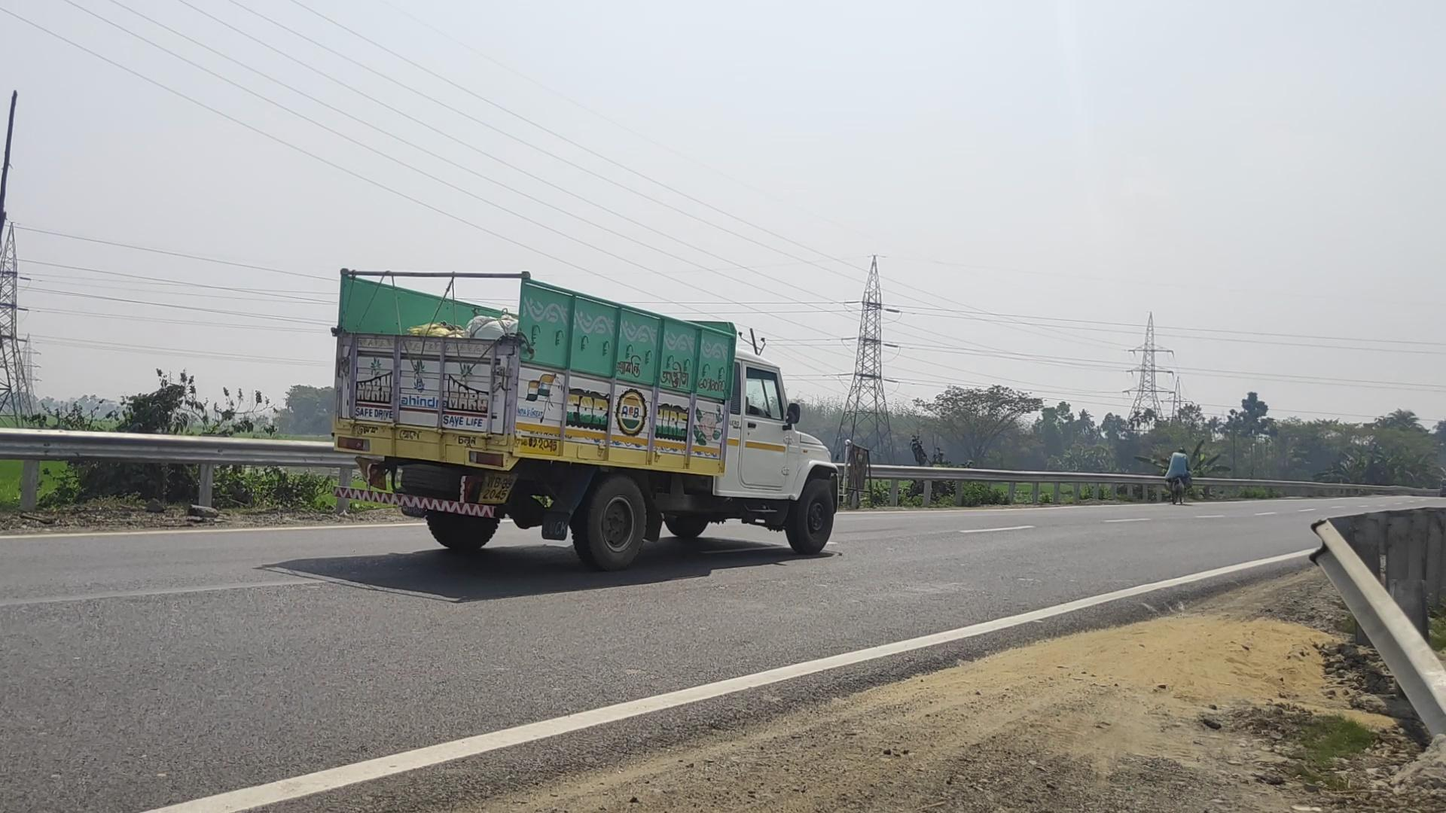bike: (1166, 447, 1192, 504)
van: (332, 267, 851, 572)
